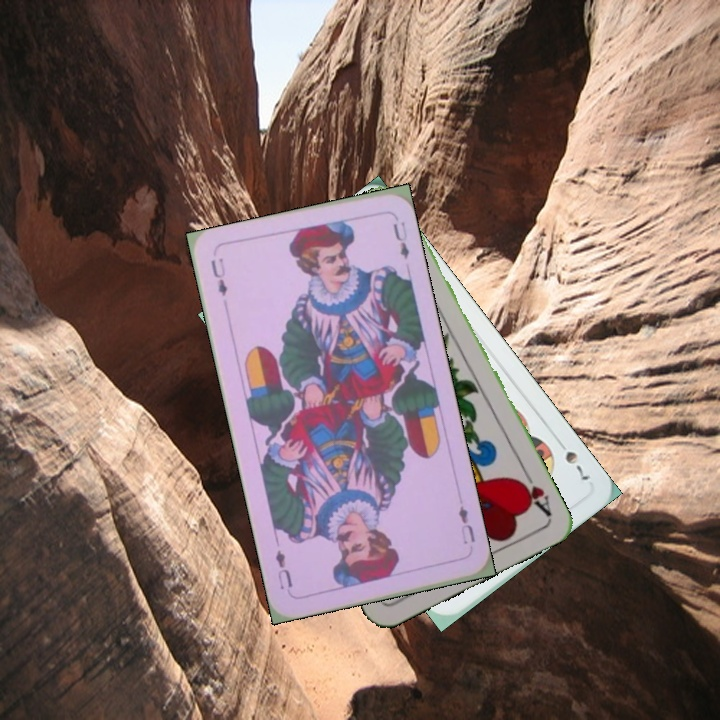EU: (454, 502, 478, 547), (206, 254, 230, 299)
HA: (513, 464, 554, 519)
S7: (552, 435, 593, 483)
